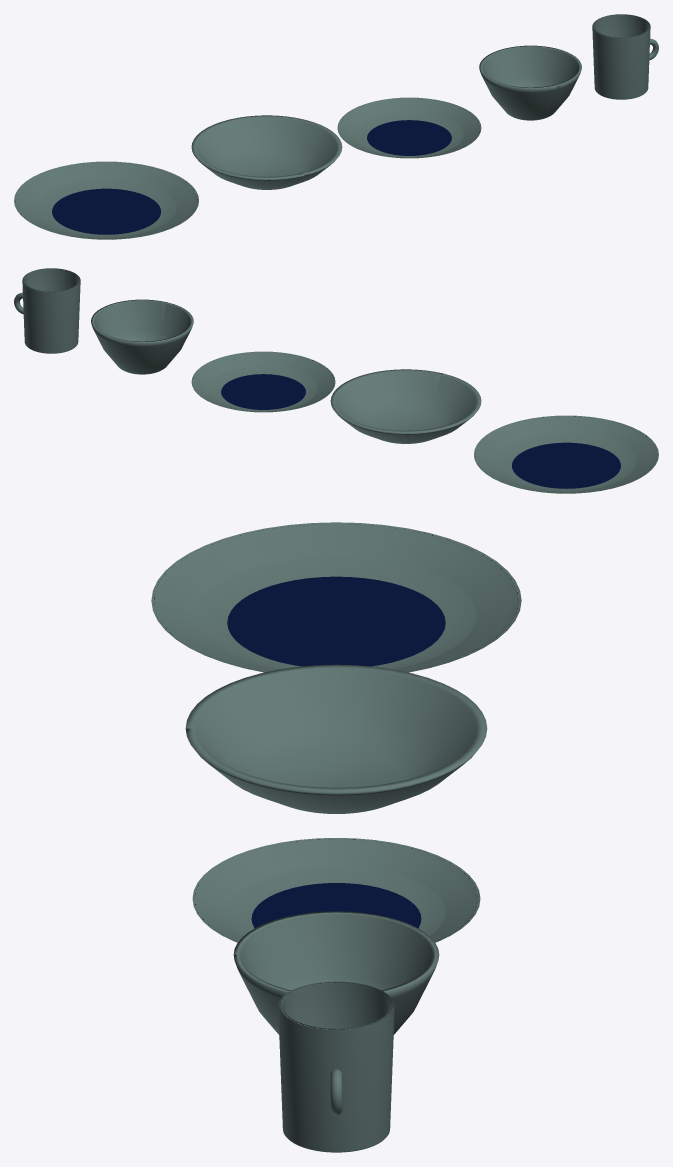
The picture shows the model from 3 angles, top to bottom: view 1: azimuth 30°, elevation 25°; view 2: azimuth 150°, elevation 25°; view 3: azimuth 270°, elevation 25°; orthographic projection. The views are drawn at different scales.
Size of the model in its own units: 1.06 by 0.1 by 0.27.
